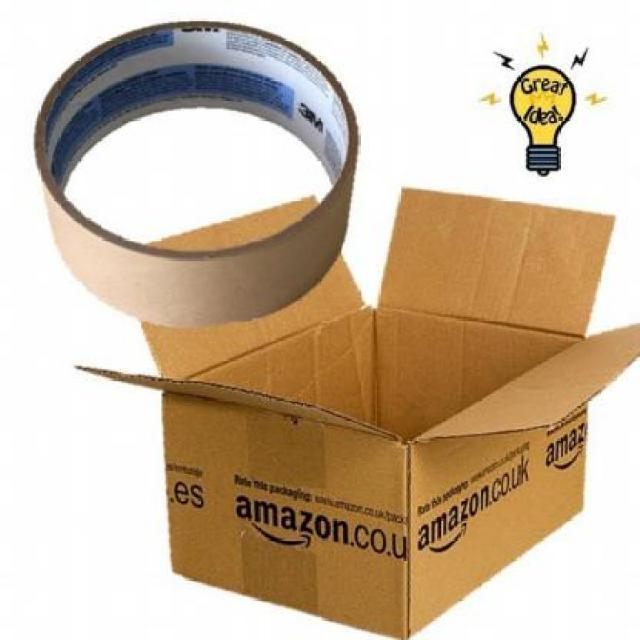box: (96, 188, 640, 640)
